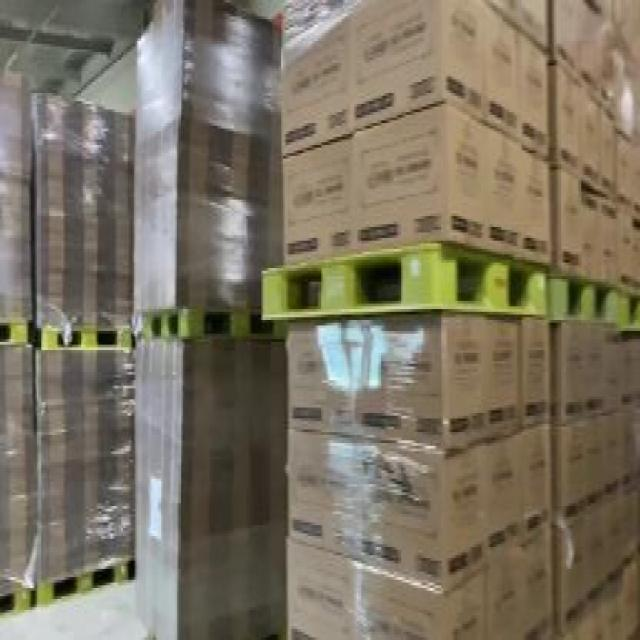box: (278, 3, 638, 637), (131, 11, 289, 637), (30, 76, 144, 602), (0, 65, 31, 620)
